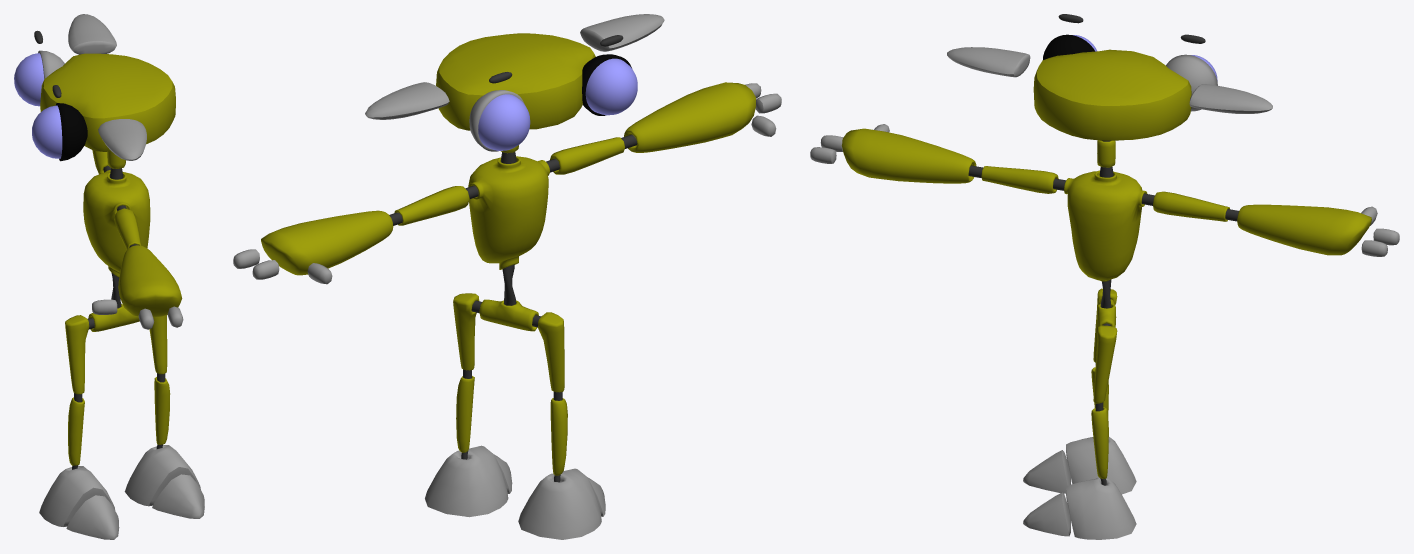
File: die10.obj
The picture shows the model from 3 angles, left to right: view 1: azimuth 30°, elevation 25°; view 2: azimuth 150°, elevation 25°; view 3: azimuth 270°, elevation 25°; orthographic projection. The views are drawn at different scales.
Visible parts, largest first — view 1: Mesh polySurface50, Mesh polySurface41, Mesh polySurface18, Mesh polySurface48, Mesh polySurface10, Mesh polySurface26, Mesh polySurface8, Mesh polySurface24, Mesh polySurface44, Mesh polySurface28, Mesh polySurface6, Mesh polySurface4 (+16 smaller); view 2: Mesh polySurface50, Mesh polySurface41, Mesh polySurface18, Mesh polySurface37, Mesh polySurface10, Mesh polySurface26, Mesh polySurface48, Mesh polySurface6, Mesh polySurface22, Mesh polySurface47, Mesh polySurface38, Mesh polySurface28 (+7 smaller); view 3: Mesh polySurface41, Mesh polySurface50, Mesh polySurface48, Mesh polySurface18, Mesh polySurface37, Mesh polySurface10, Mesh polySurface26, Mesh polySurface47, Mesh polySurface38, Mesh polySurface51, Mesh polySurface44, Mesh polySurface12 (+5 smaller).
Boxes of the visible parts, <box> form: Mesh polySurface50: <box>43,53,172,118</box>; Mesh polySurface41: <box>83,170,150,277</box>; Mesh polySurface18: <box>118,245,182,317</box>; Mesh polySurface48: <box>40,80,175,151</box>; Mesh polySurface10: <box>124,445,200,506</box>; Mesh polySurface26: <box>39,466,115,526</box>; Mesh polySurface8: <box>152,474,204,518</box>; Mesh polySurface24: <box>66,495,119,539</box>; Mesh polySurface44: <box>98,119,146,159</box>; Mesh polySurface28: <box>65,315,89,394</box>; Mesh polySurface6: <box>32,105,62,158</box>; Mesh polySurface4: <box>55,103,87,161</box>; Mesh polySurface50: <box>439,33,593,95</box>; Mesh polySurface41: <box>468,156,549,269</box>; Mesh polySurface18: <box>624,82,755,152</box>; Mesh polySurface37: <box>261,210,393,275</box>; Mesh polySurface10: <box>425,445,508,516</box>; Mesh polySurface26: <box>518,468,601,539</box>; Mesh polySurface48: <box>436,54,595,130</box>; Mesh polySurface6: <box>585,58,637,115</box>; Mesh polySurface22: <box>478,94,530,150</box>; Mesh polySurface47: <box>365,82,449,117</box>; Mesh polySurface38: <box>394,186,469,225</box>; Mesh polySurface28: <box>538,312,564,392</box>; Mesh polySurface41: <box>1064,170,1147,281</box>; Mesh polySurface50: <box>1037,49,1188,105</box>; Mesh polySurface48: <box>1033,67,1191,140</box>; Mesh polySurface18: <box>841,128,976,183</box>; Mesh polySurface37: <box>1237,204,1371,255</box>; Mesh polySurface10: <box>1066,477,1136,539</box>; Mesh polySurface26: <box>1066,437,1136,494</box>; Mesh polySurface47: <box>1189,84,1272,110</box>; Mesh polySurface38: <box>1153,191,1229,221</box>; Mesh polySurface51: <box>981,166,1058,193</box>; Mesh polySurface44: <box>947,47,1027,74</box>; Mesh polySurface12: <box>1093,325,1117,403</box>.
Bounding box in the file's own units: 8.41 × 14.23 × 16.86.
